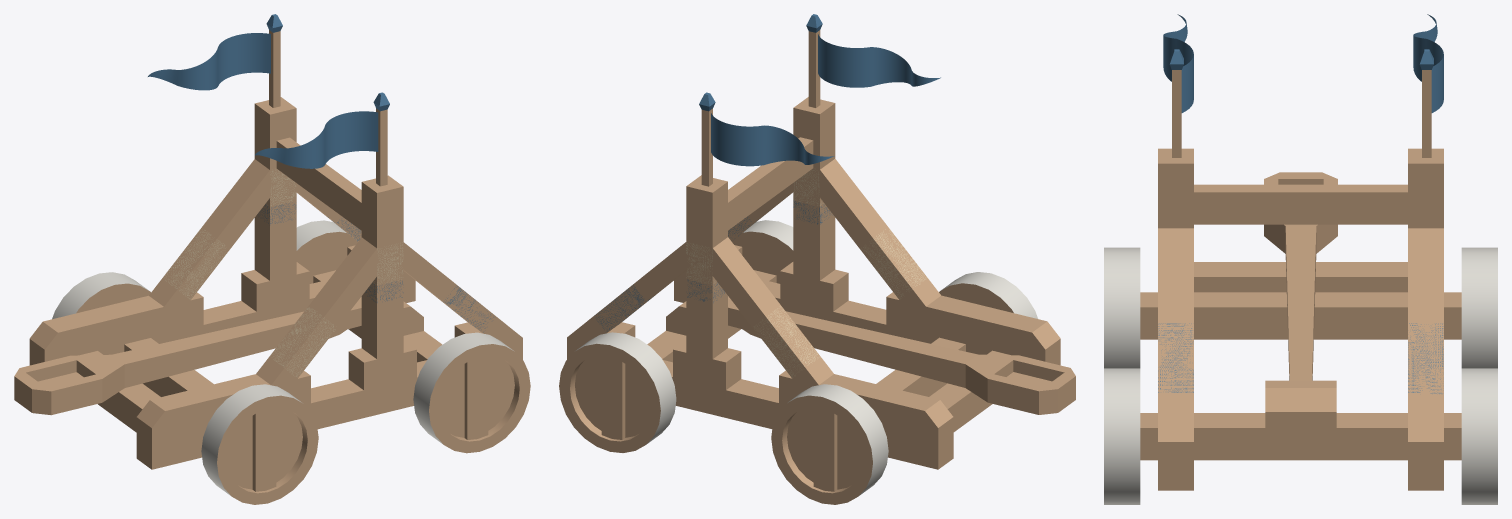
The model's file is siegeCatapult.glb.
3 views of the same model, side by side, from view 1: azimuth 30°, elevation 25°; view 2: azimuth 150°, elevation 25°; view 3: azimuth 270°, elevation 25° (orthographic). The views are drawn at different scales.
Parts seen in each view (by area): view 1: mesh_id4, mesh_id7, mesh_id14, mesh_id18, mesh_id10, mesh_id8, mesh_id15, mesh_id19, mesh_id5, mesh_id16, mesh_id13, mesh_id12 (+4 smaller); view 2: mesh_id4, mesh_id7, mesh_id16, mesh_id12, mesh_id10, mesh_id8, mesh_id17, mesh_id13, mesh_id5, mesh_id18, mesh_id15, mesh_id14 (+4 smaller); view 3: mesh_id4, mesh_id7, mesh_id17, mesh_id19, mesh_id13, mesh_id15, mesh_id8, mesh_id10, mesh_id6, mesh_id9, mesh_id11.
Part boxes in pixels (left/top/right/bottom): mesh_id4: left=29, top=97, right=522, bottom=469; mesh_id7: left=14, top=298, right=361, bottom=415; mesh_id14: left=217, top=395, right=318, bottom=504; mesh_id18: left=429, top=344, right=530, bottom=453; mesh_id10: left=254, top=92, right=389, bottom=168; mesh_id8: left=148, top=14, right=282, bottom=90; mesh_id15: left=201, top=384, right=301, bottom=496; mesh_id19: left=413, top=332, right=514, bottom=444; mesh_id5: left=163, top=170, right=403, bottom=376; mesh_id16: left=296, top=231, right=357, bottom=338; mesh_id13: left=52, top=272, right=148, bottom=319; mesh_id12: left=76, top=283, right=150, bottom=313; mesh_id4: left=567, top=97, right=1060, bottom=469; mesh_id7: left=728, top=298, right=1075, bottom=414; mesh_id16: left=559, top=343, right=660, bottom=452; mesh_id12: left=771, top=395, right=872, bottom=504; mesh_id10: left=806, top=14, right=940, bottom=87; mesh_id8: left=699, top=92, right=834, bottom=166; mesh_id17: left=576, top=332, right=676, bottom=444; mesh_id13: left=788, top=384, right=888, bottom=496; mesh_id5: left=686, top=170, right=927, bottom=377; mesh_id18: left=732, top=231, right=793, bottom=338; mesh_id15: left=941, top=272, right=1037, bottom=318; mesh_id14: left=939, top=283, right=1013, bottom=312; mesh_id4: left=1140, top=148, right=1461, bottom=490; mesh_id7: left=1264, top=172, right=1337, bottom=380; mesh_id17: left=1461, top=368, right=1497, bottom=504; mesh_id19: left=1104, top=368, right=1140, bottom=504; mesh_id13: left=1461, top=247, right=1497, bottom=368; mesh_id15: left=1104, top=247, right=1140, bottom=368; mesh_id8: left=1413, top=14, right=1443, bottom=112; mesh_id10: left=1163, top=14, right=1193, bottom=112; mesh_id6: left=1158, top=323, right=1443, bottom=393; mesh_id9: left=1422, top=70, right=1431, bottom=157; mesh_id11: left=1172, top=70, right=1181, bottom=157.
Bounding box in the file's own units: 0.512 × 0.3924 × 0.3413.
Materials: 16 (16 with a texture image).
